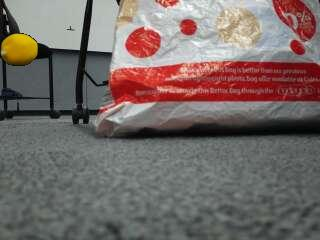lemon: (2, 34, 39, 66)
